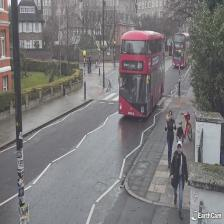person: (170, 141, 187, 218), (164, 109, 176, 167)
